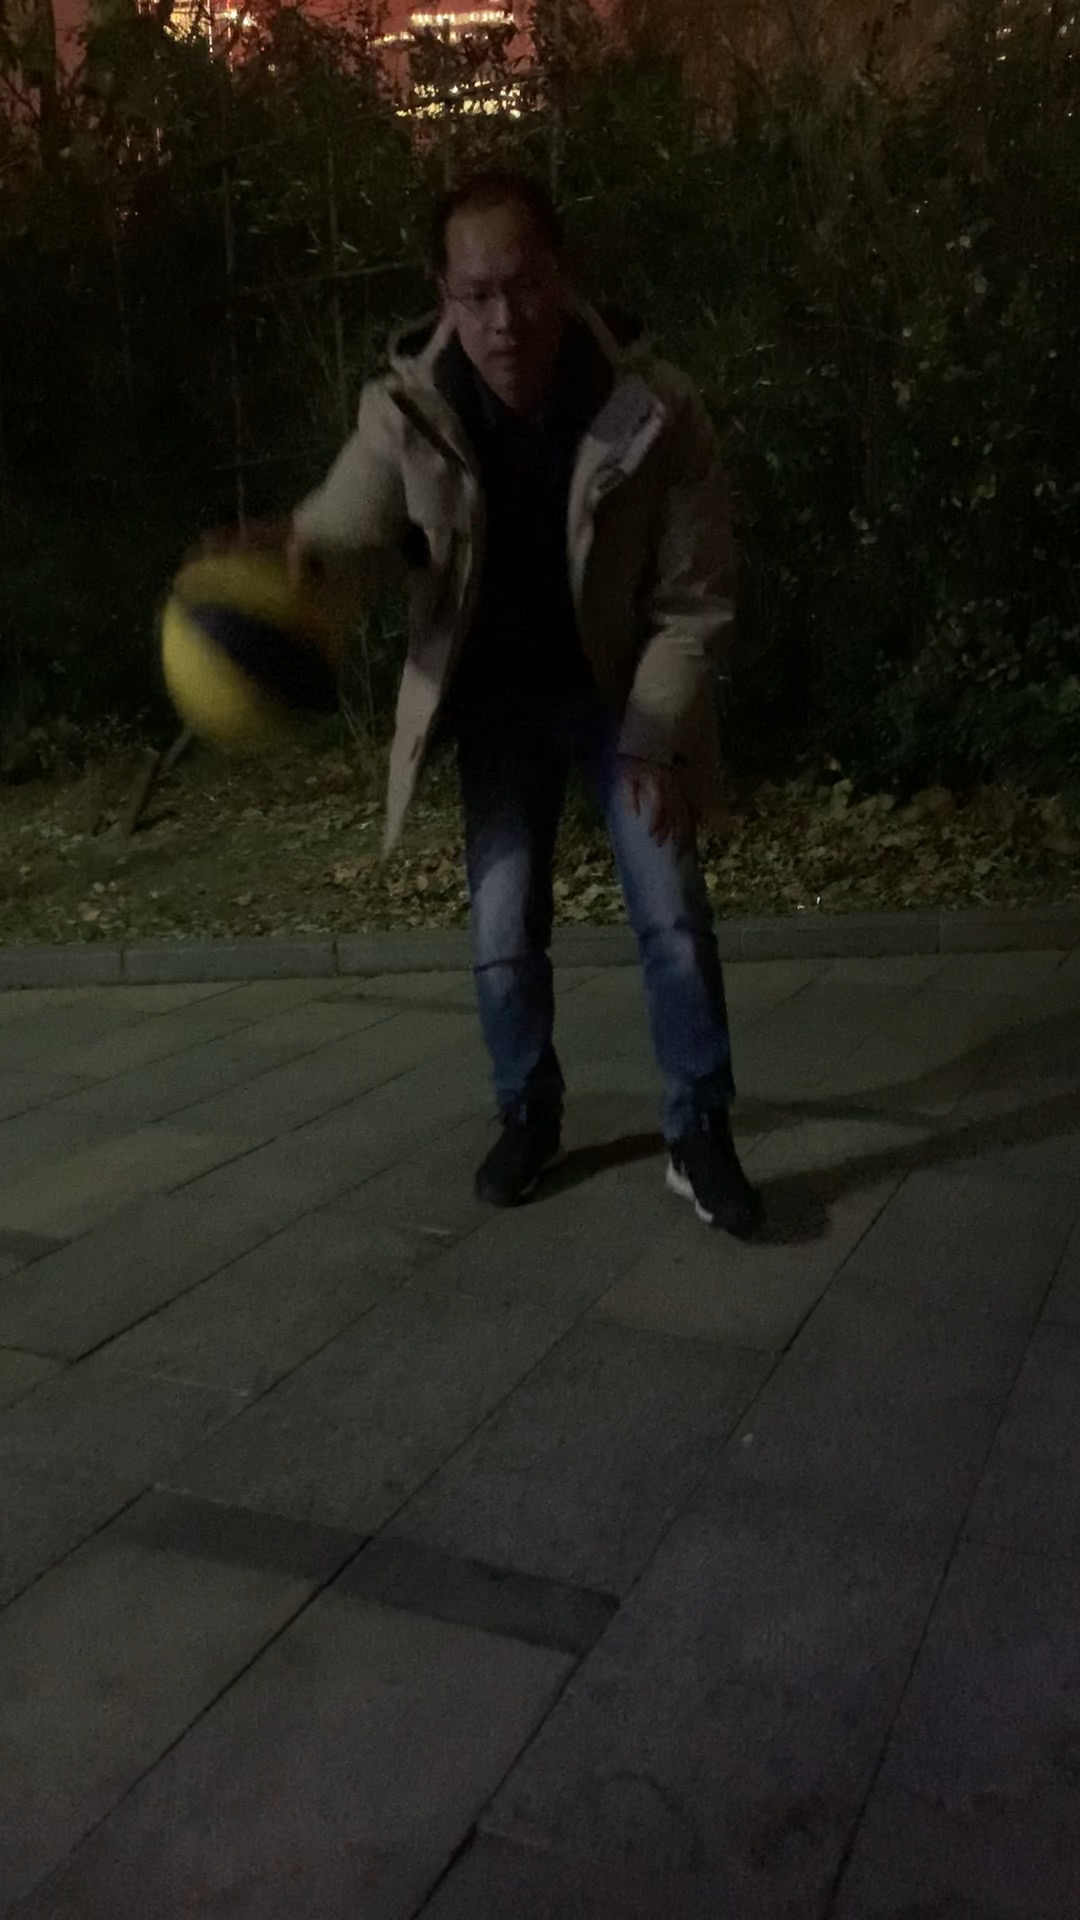ball: (164, 543, 375, 752)
